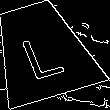L_N: (15, 22, 68, 80)
